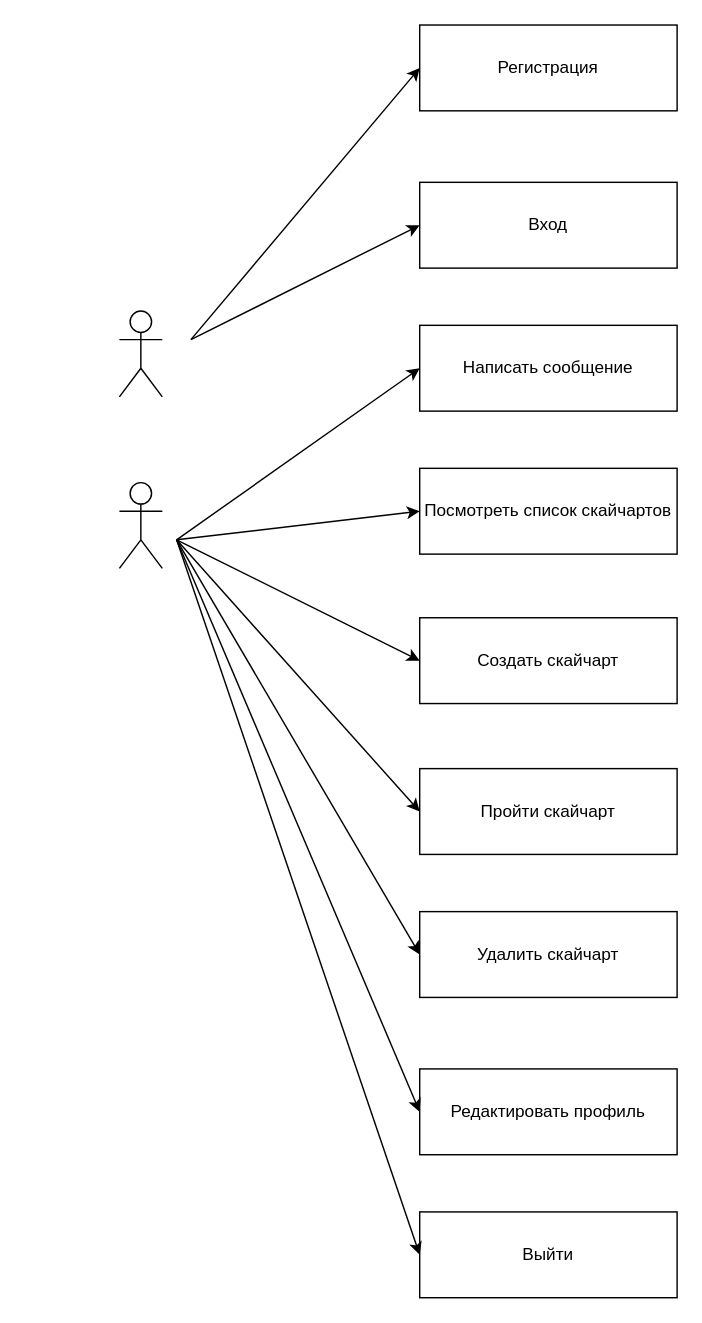
Some shapes in this 702 by 1323 pixel diagram are drawn without their labels. Each missing label, with the centre of its shape:
"Незарегистрированный юзер" belongs at (140,353).
"юзер" belongs at (140,524).
